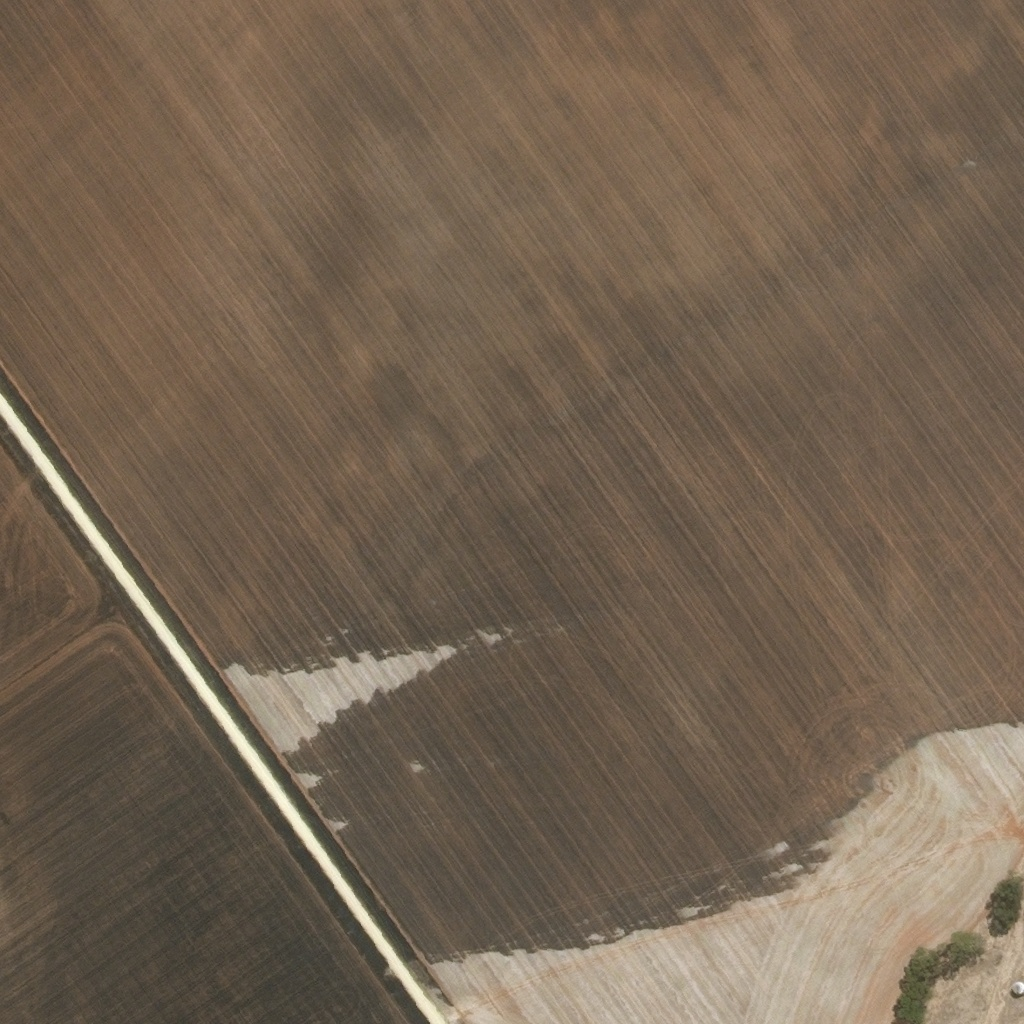0 no-damage: (1012, 979, 1023, 994)
